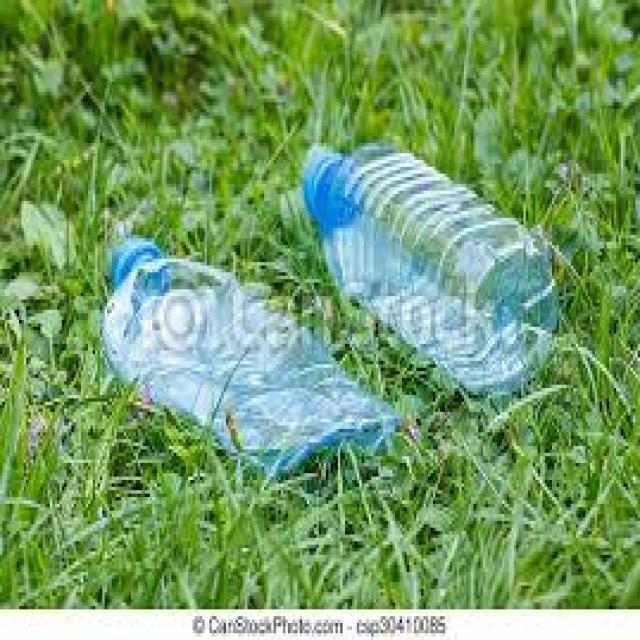Plastic: (68, 202, 444, 484), (282, 102, 592, 394)
